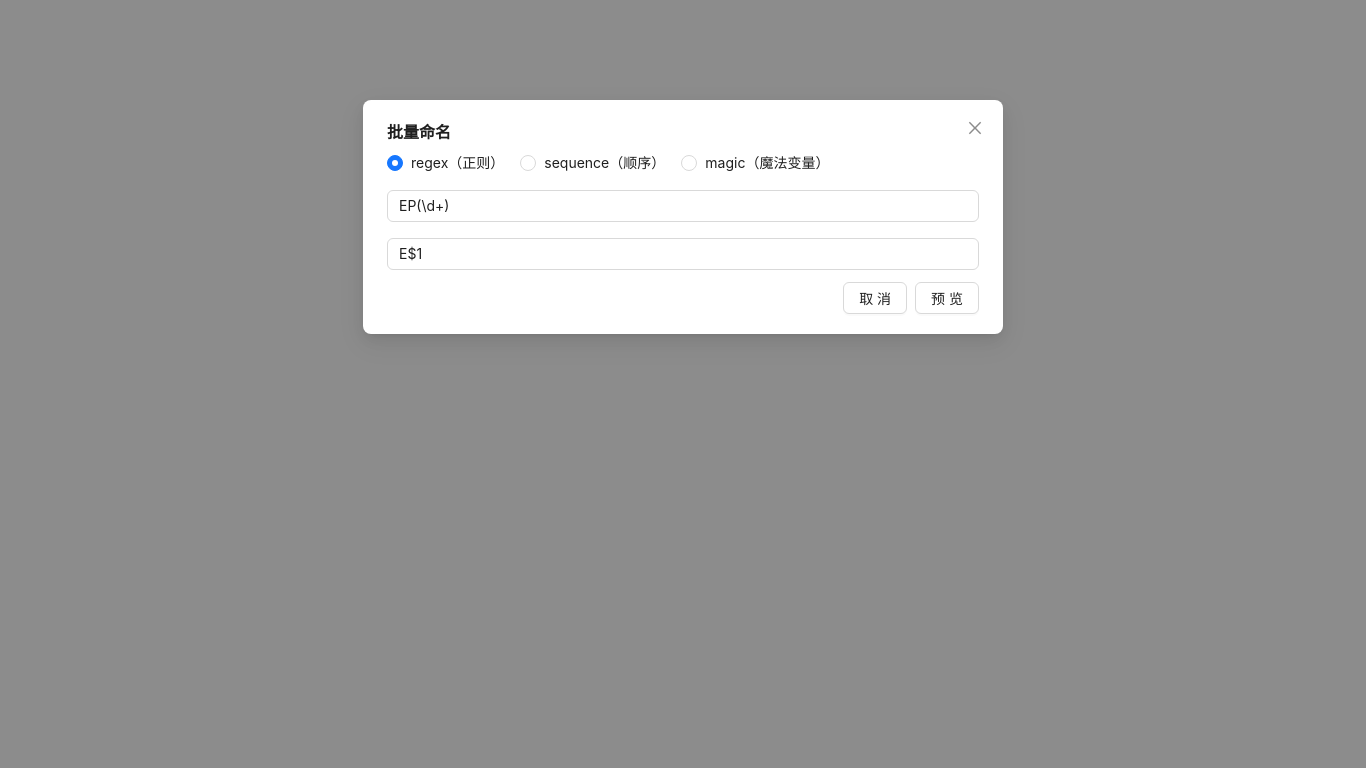
Scenario: 预览结果冲突时展示且仍需用户确认
This screenshot has width=1366, height=768.
Click the button "预 览".
click(947, 298)  # box [915,282,979,314]
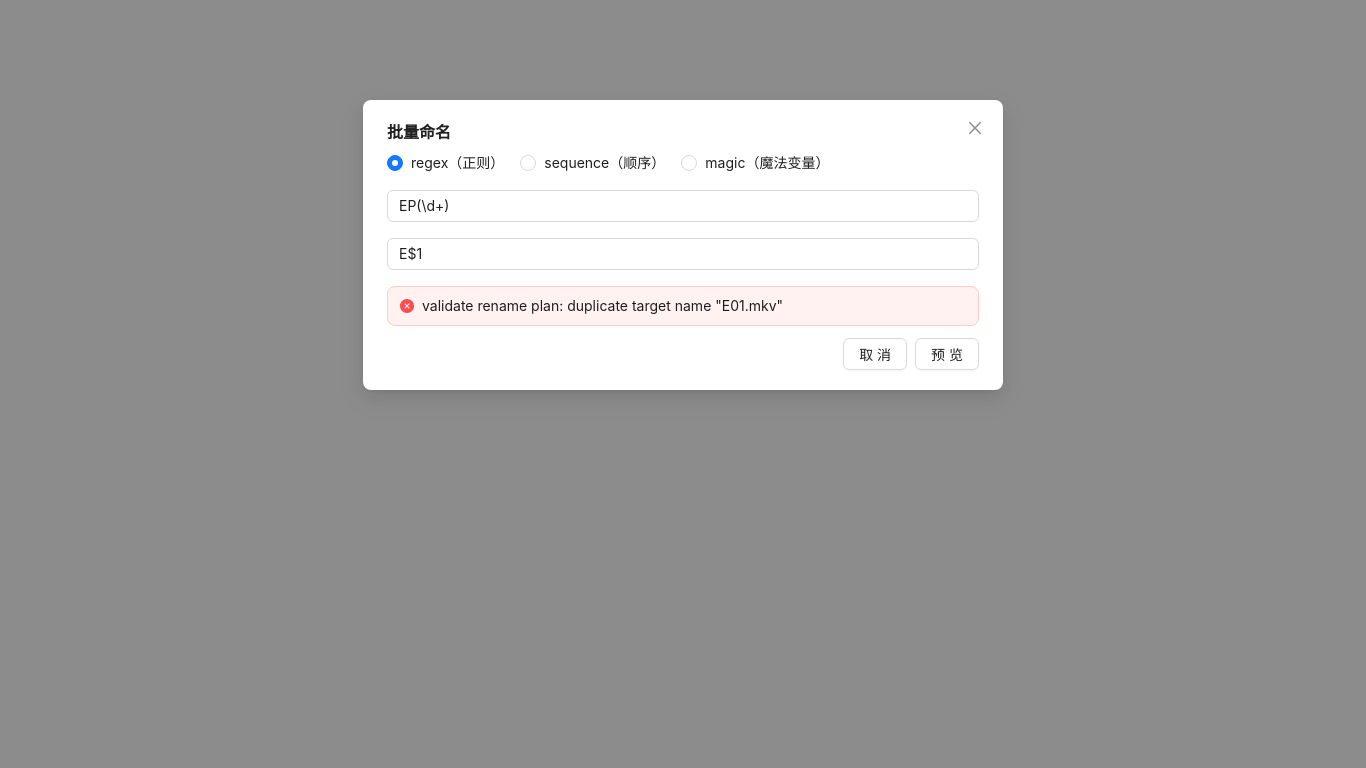
Expected: the text "validate rename plan: duplicate target name \"E01.mkv\"" is shown, [422,297,783,314]
